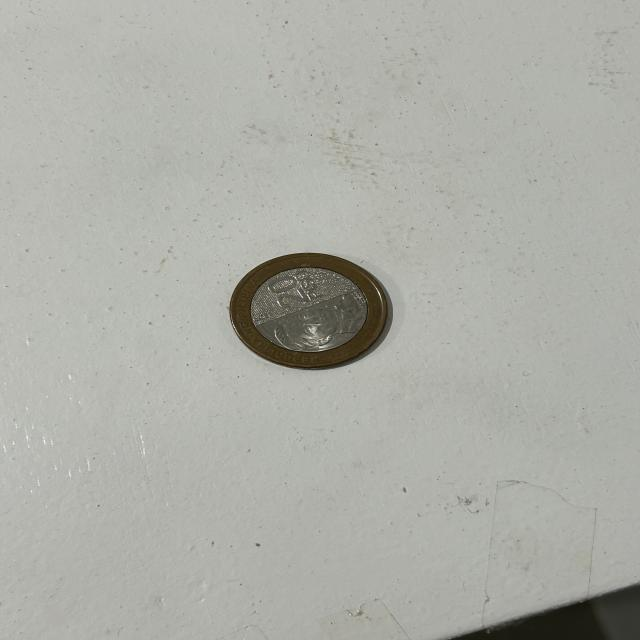20_New_Front: (264, 274, 330, 312)
